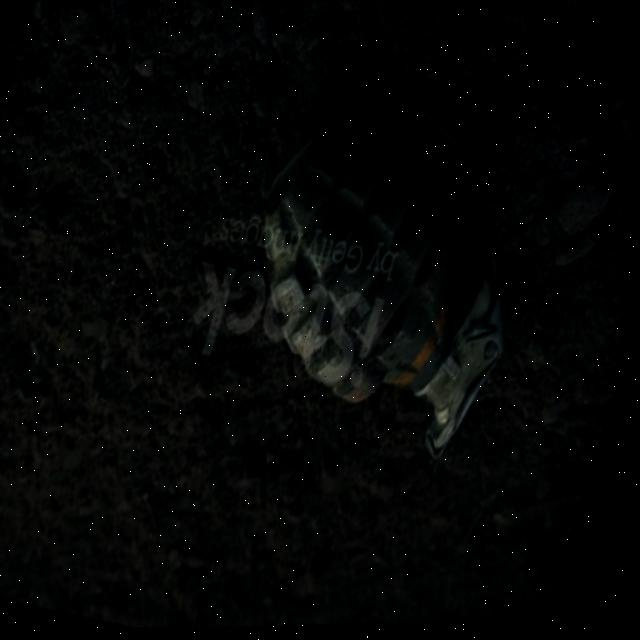grenade: (190, 59, 582, 486)
